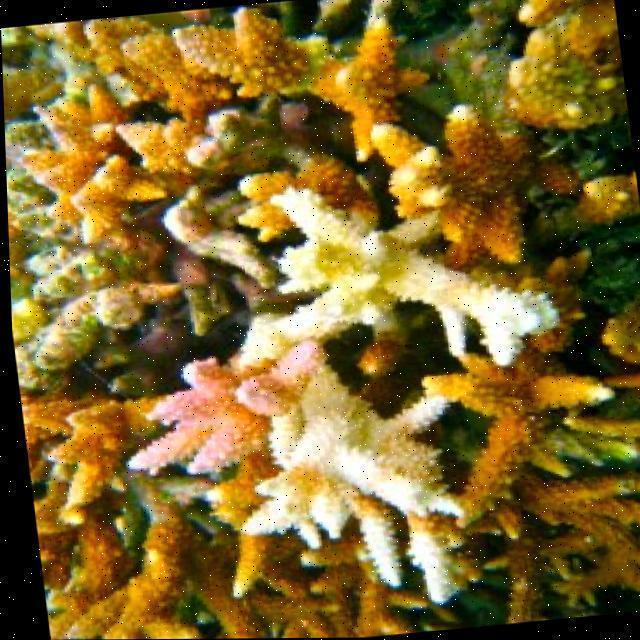Bleached Coral: (231, 187, 559, 370), (236, 343, 464, 604)
Healthy Coral: (452, 375, 640, 623), (37, 475, 248, 637)
